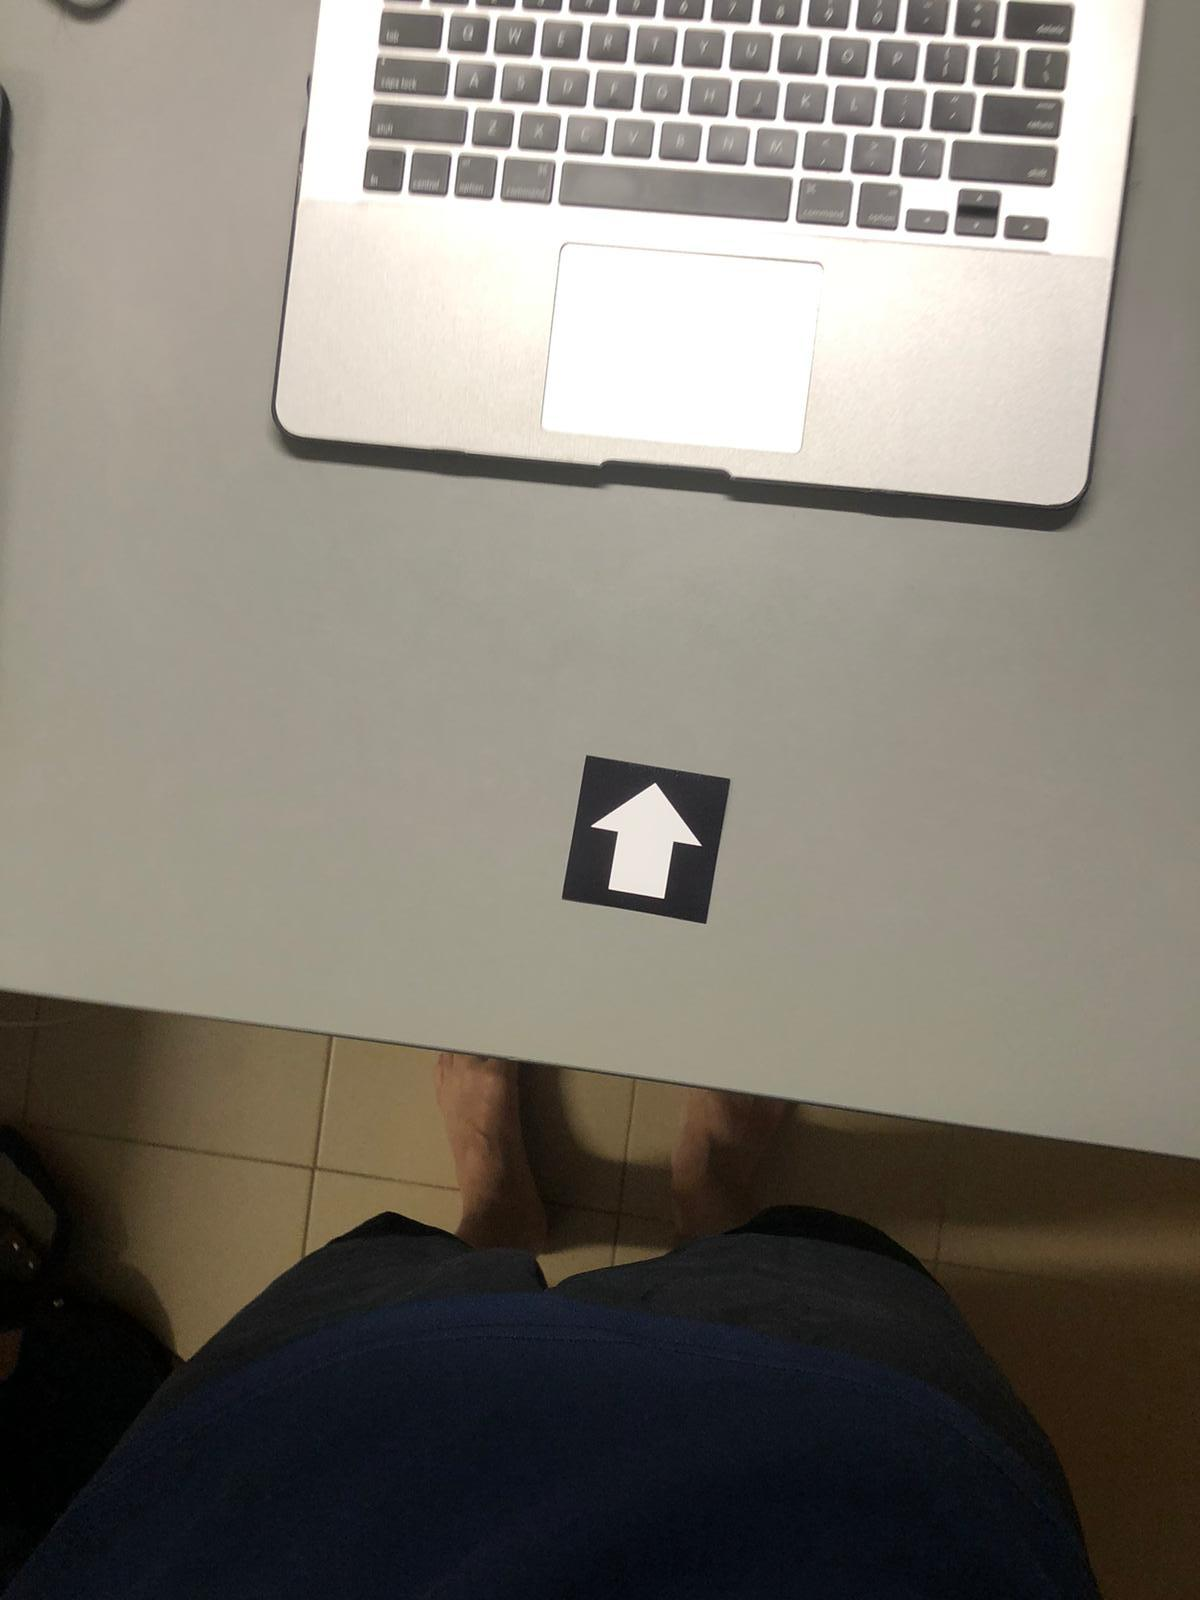Top Arrow: (556, 750, 732, 926)
